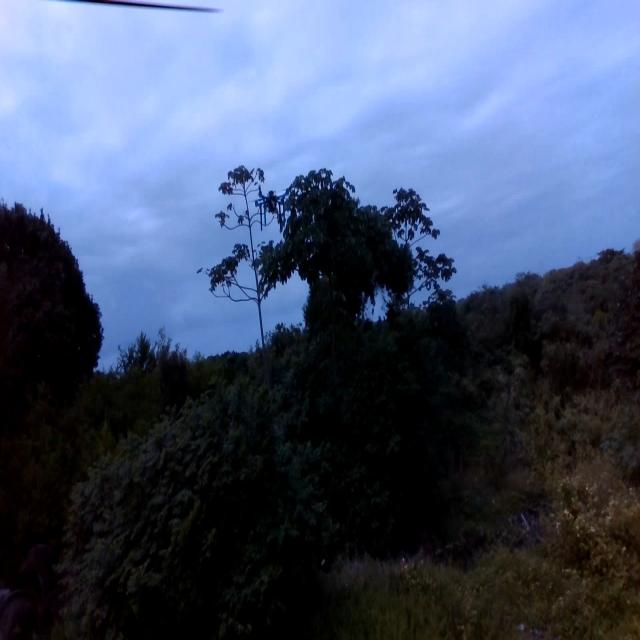-uav-: (246, 180, 302, 248)
